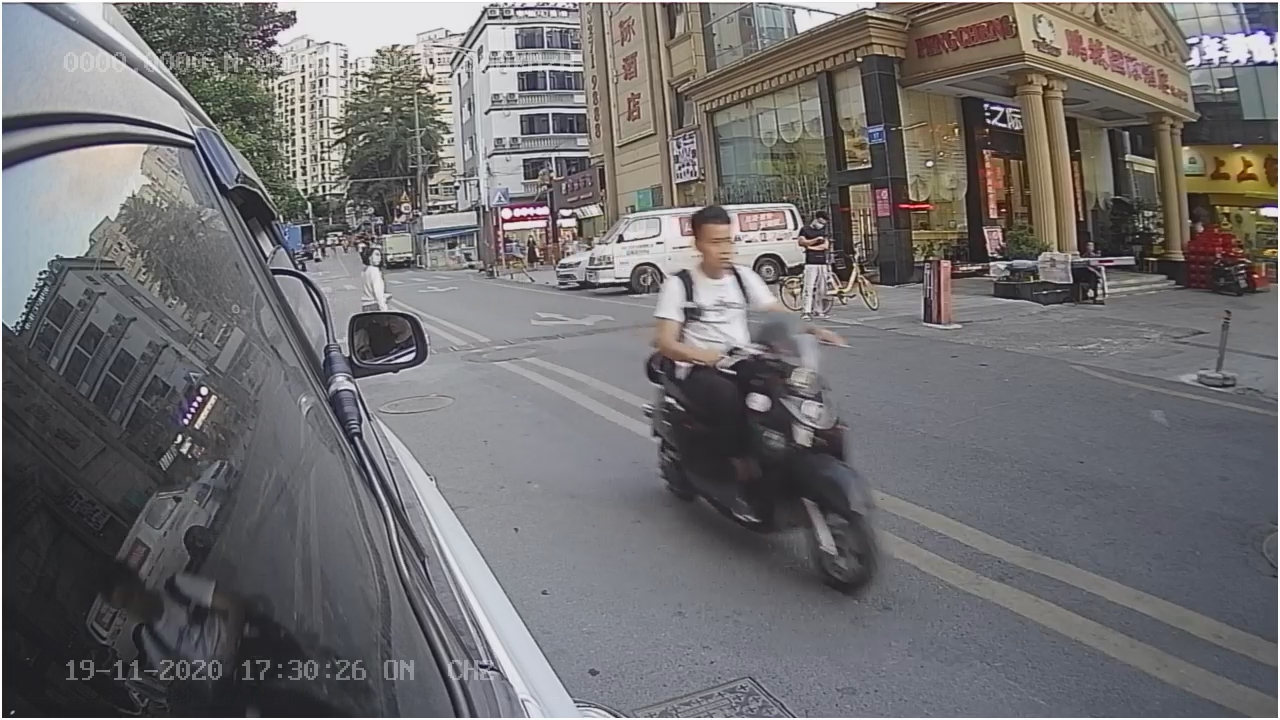person: (647, 202, 771, 343)
